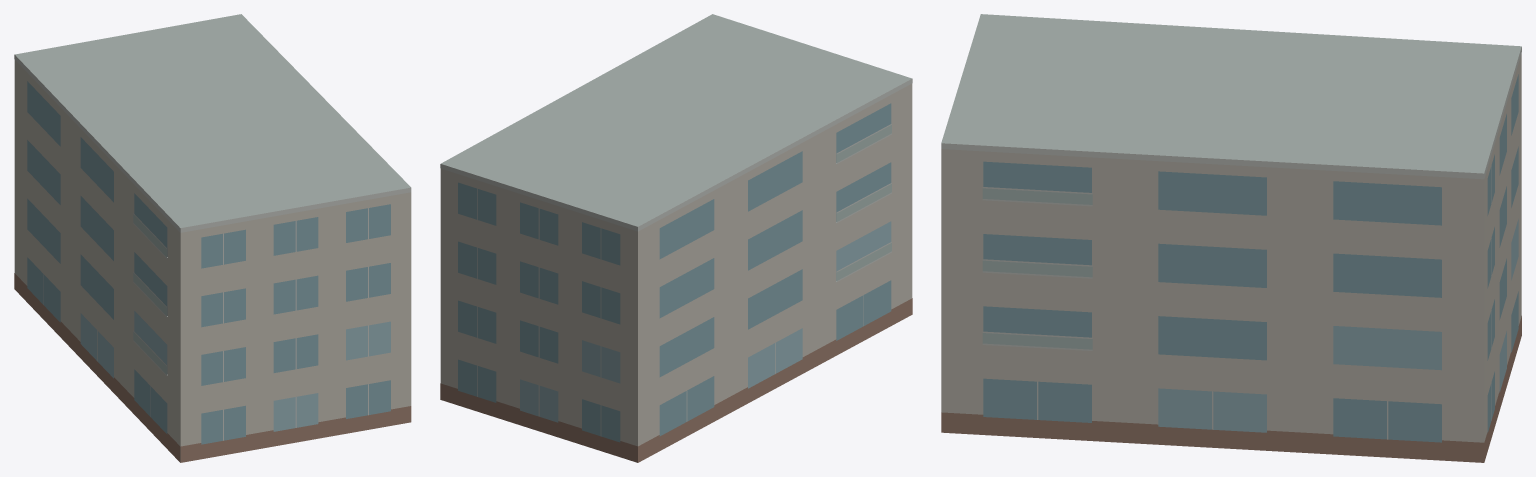
The model's file is survey-upis-32750946.glb.
3 renders of one model, left to right at view 1: azimuth 30°, elevation 25°; view 2: azimuth 150°, elevation 25°; view 3: azimuth 270°, elevation 25°, orthographic. The views are drawn at different scales.
Visible parts, largest first — view 1: survey-upis-32750946.tmp; view 2: survey-upis-32750946.tmp; view 3: survey-upis-32750946.tmp.
Part boxes in pixels (x1=…): survey-upis-32750946.tmp: x1=14, y1=14, x2=411, y2=462; survey-upis-32750946.tmp: x1=440, y1=14, x2=912, y2=462; survey-upis-32750946.tmp: x1=941, y1=14, x2=1521, y2=462.
Bounding box in the file's own units: 14.44 × 12.2 × 22.2.
